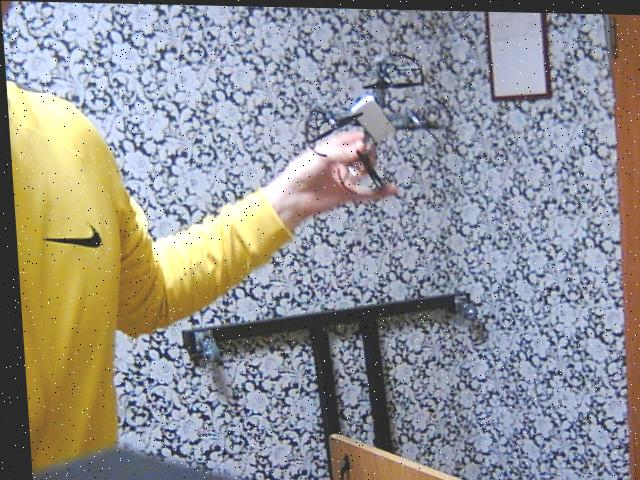drone: (286, 37, 474, 200)
